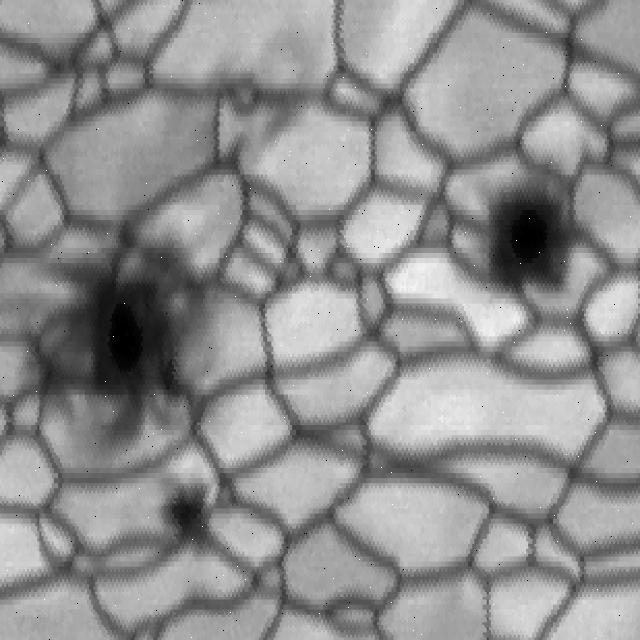good_void: (6, 235, 205, 460), (452, 180, 583, 302), (154, 461, 236, 564)
